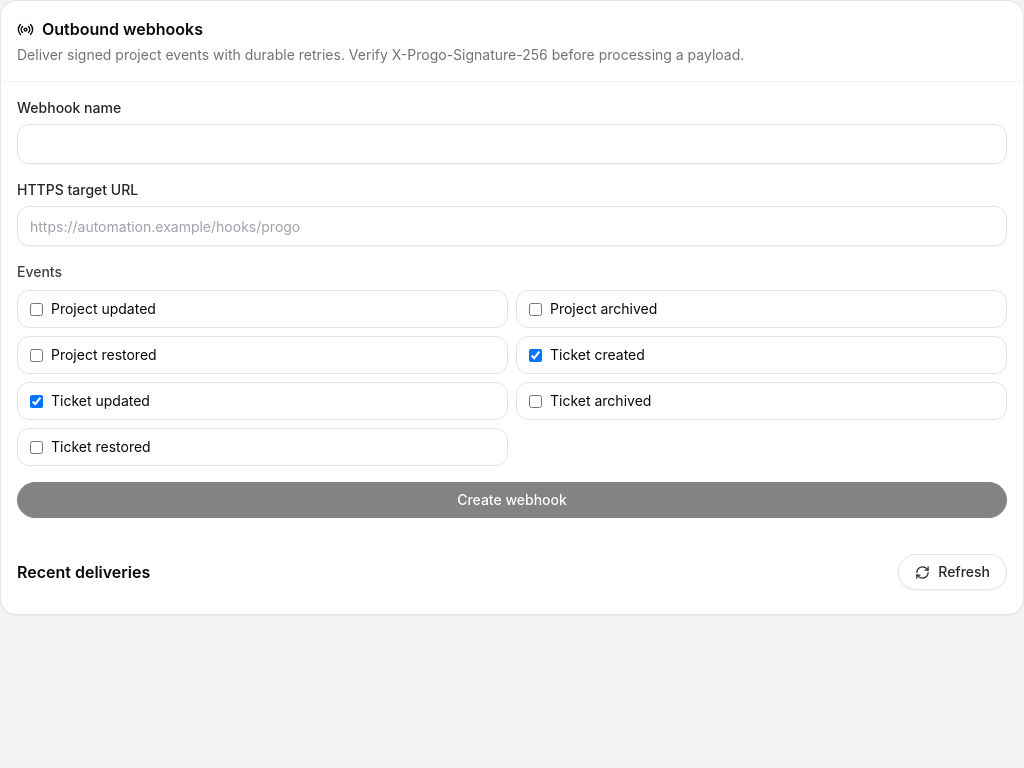
ProjectWebhooksPanel › creates a signed webhook and presents the secret once
This screenshot has width=1024, height=768.
Type "Automation" into the field labelled "Webhook name". click: (512, 144)
box: [17,124,1007,164]
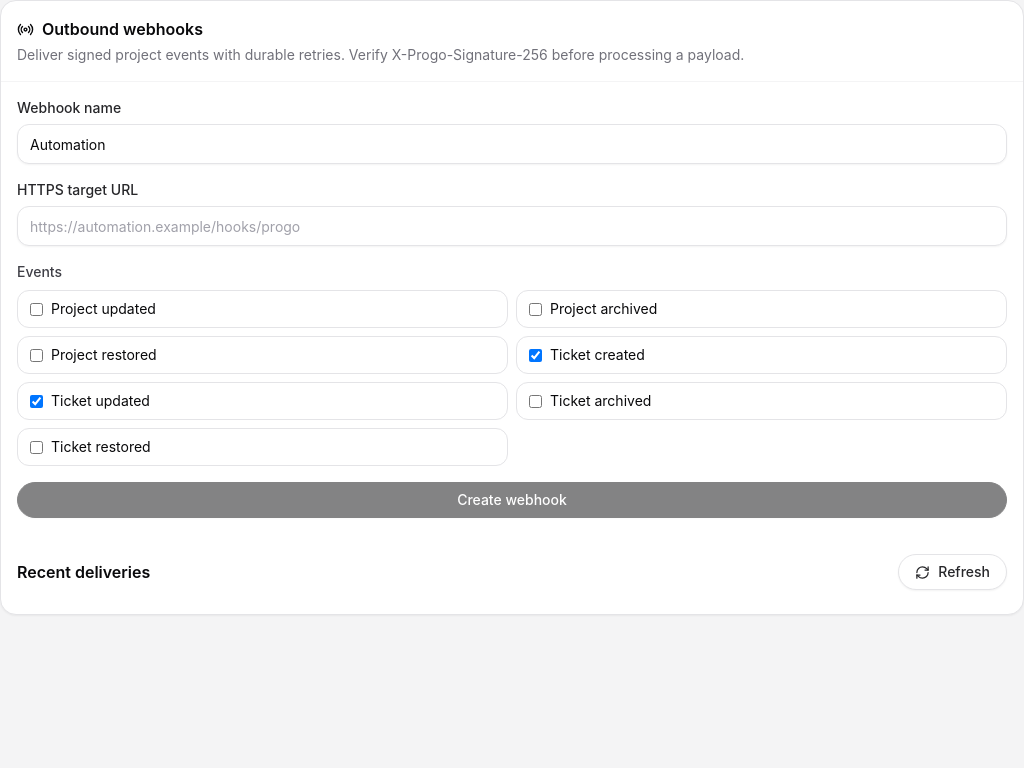
Type "https://example.test/hook" into the field labelled "HTTPS target URL". click: (512, 226)
box: [17,206,1007,246]
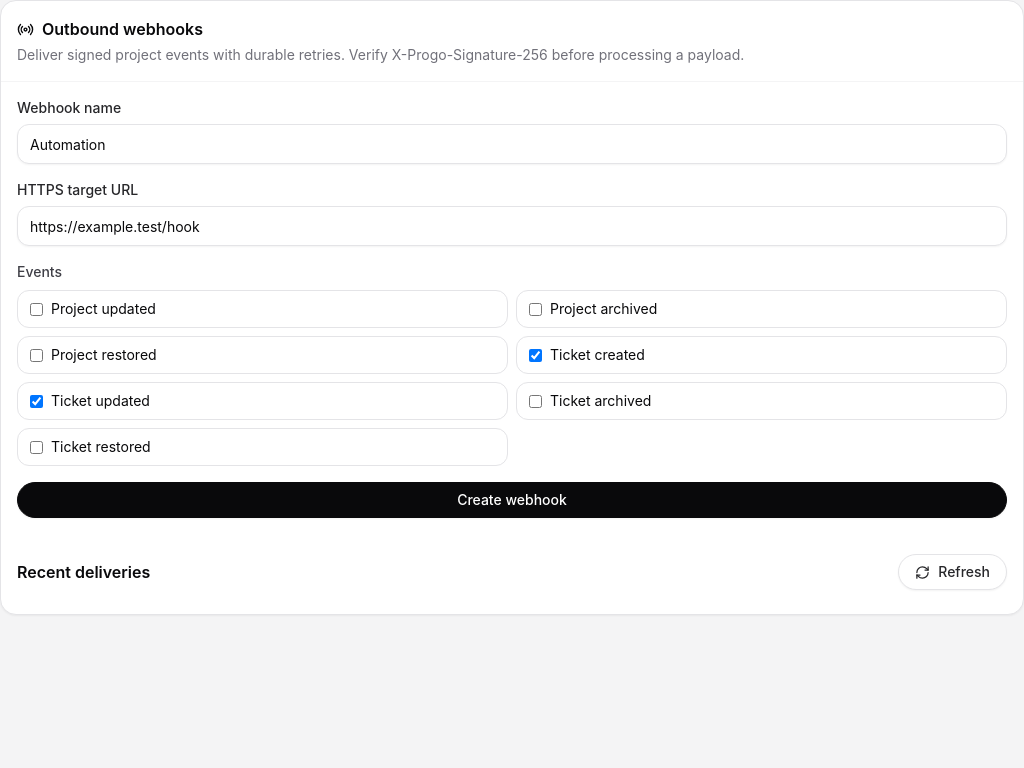
Click the button "Create webhook". click: click(512, 500)
box: [17,482,1007,518]
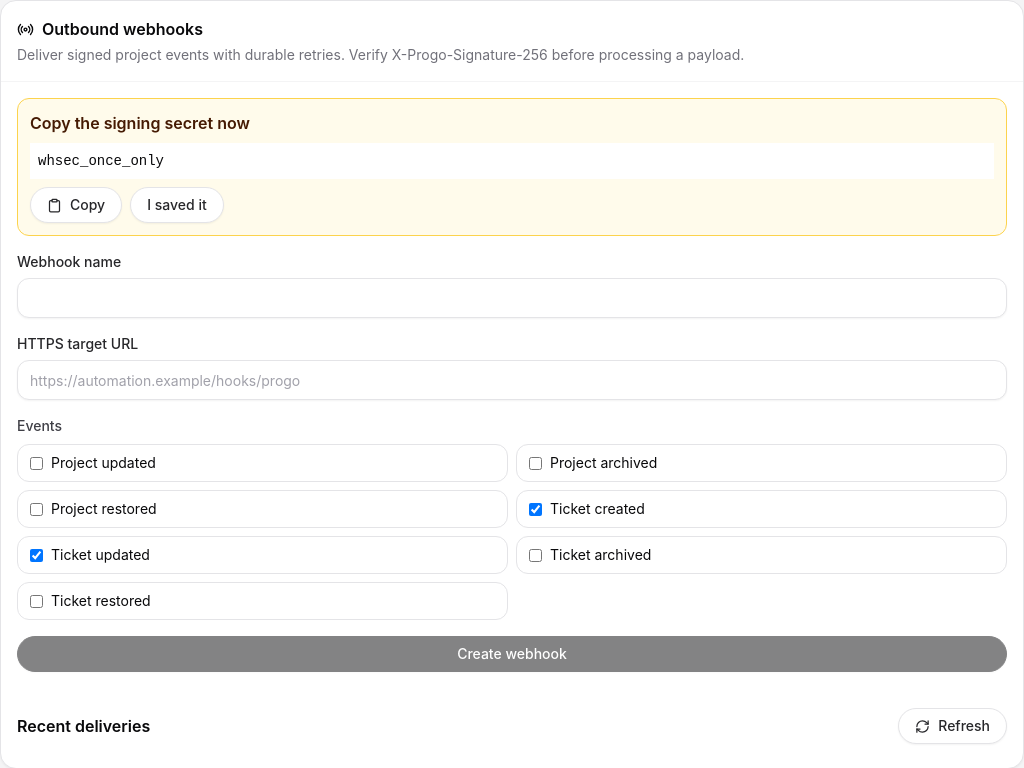
Check: the text "whsec_once_only" is shown, box [30,143,994,179]
Click the button "I saved it". click: click(177, 205)
box: [130,187,224,223]
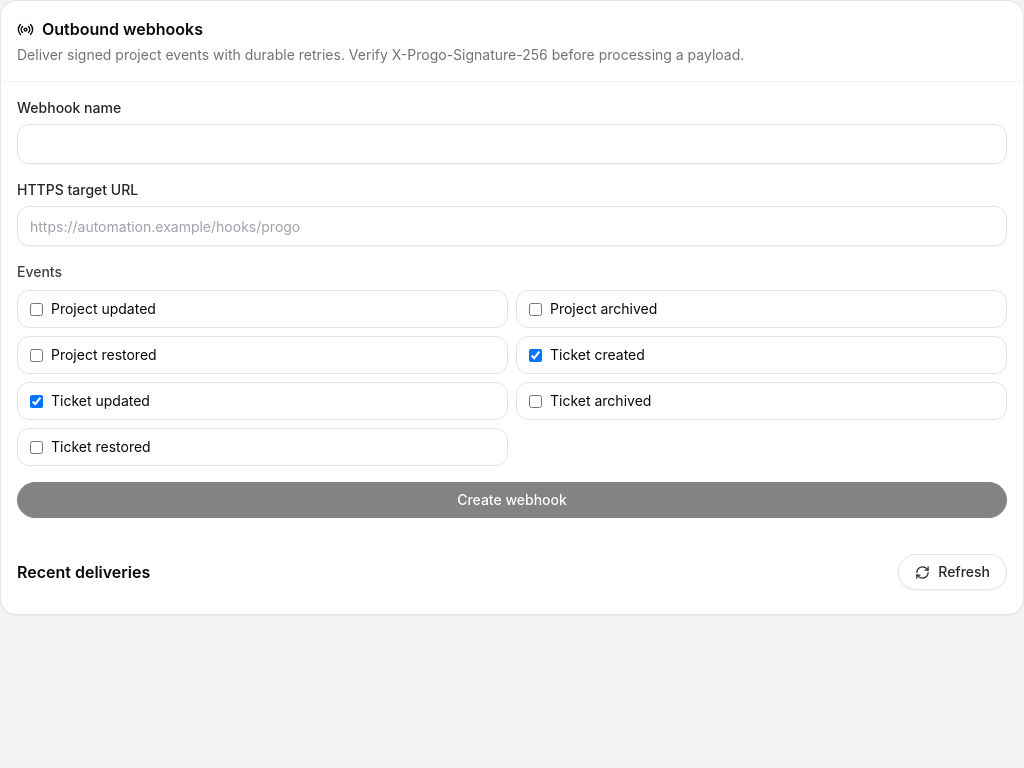
Check: the text "whsec_once_only" is gone
